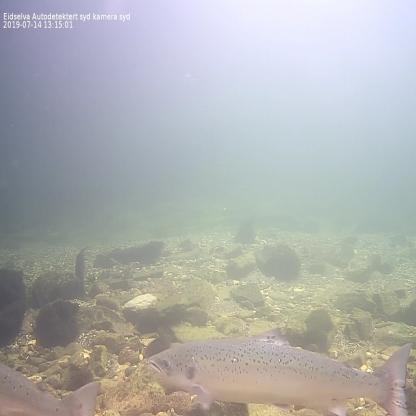salmon: (144, 321, 412, 416)
